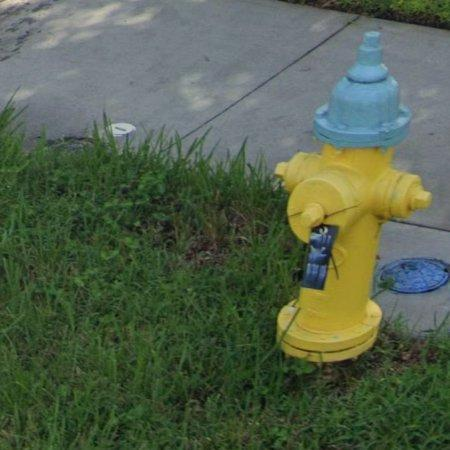a fire hydrant: (276, 31, 433, 363)
